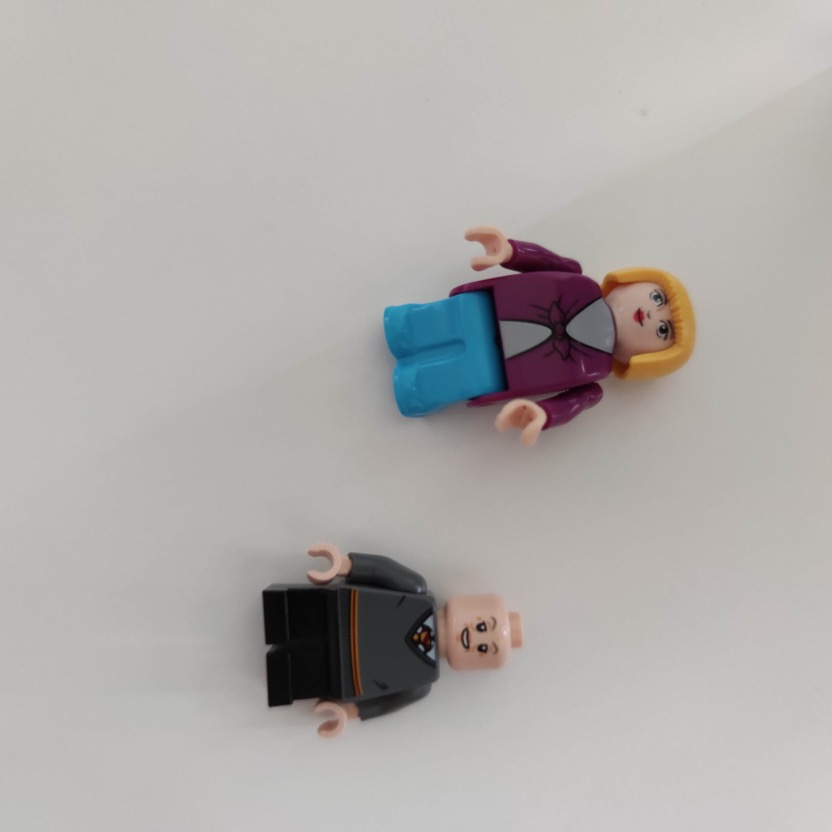lego: (382, 226, 698, 448), (261, 542, 526, 742)
